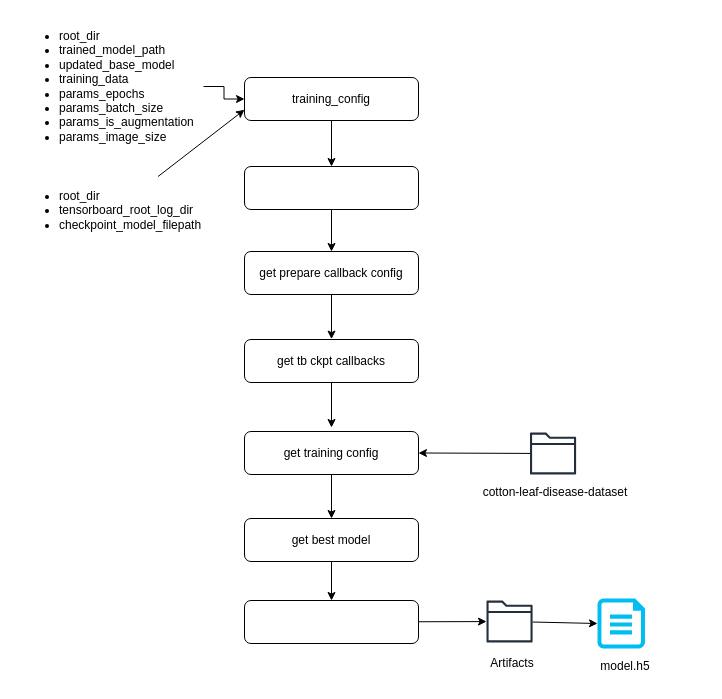
This 722x699 diagram has some shape labels left out. Each missing label, with the box of its shape:
Configuration: (244, 166, 418, 210)
train training pipeline: (244, 600, 418, 644)
